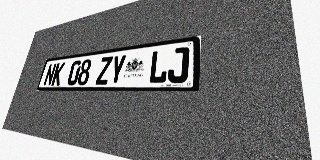0: (66, 60, 82, 85)
8: (76, 59, 93, 85)
J: (167, 46, 190, 83)
K: (51, 62, 65, 86)
L: (148, 49, 169, 84)
N: (43, 63, 57, 86)
Y: (108, 54, 127, 84)
Z: (95, 56, 113, 85)
